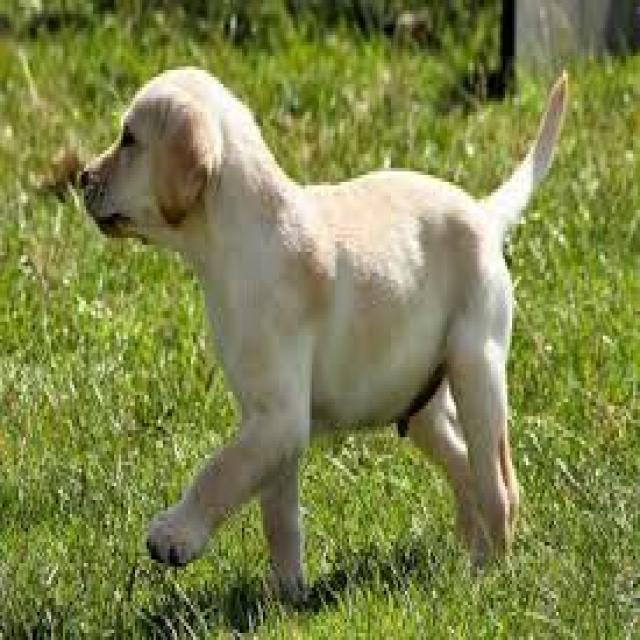dog: (83, 68, 570, 602)
